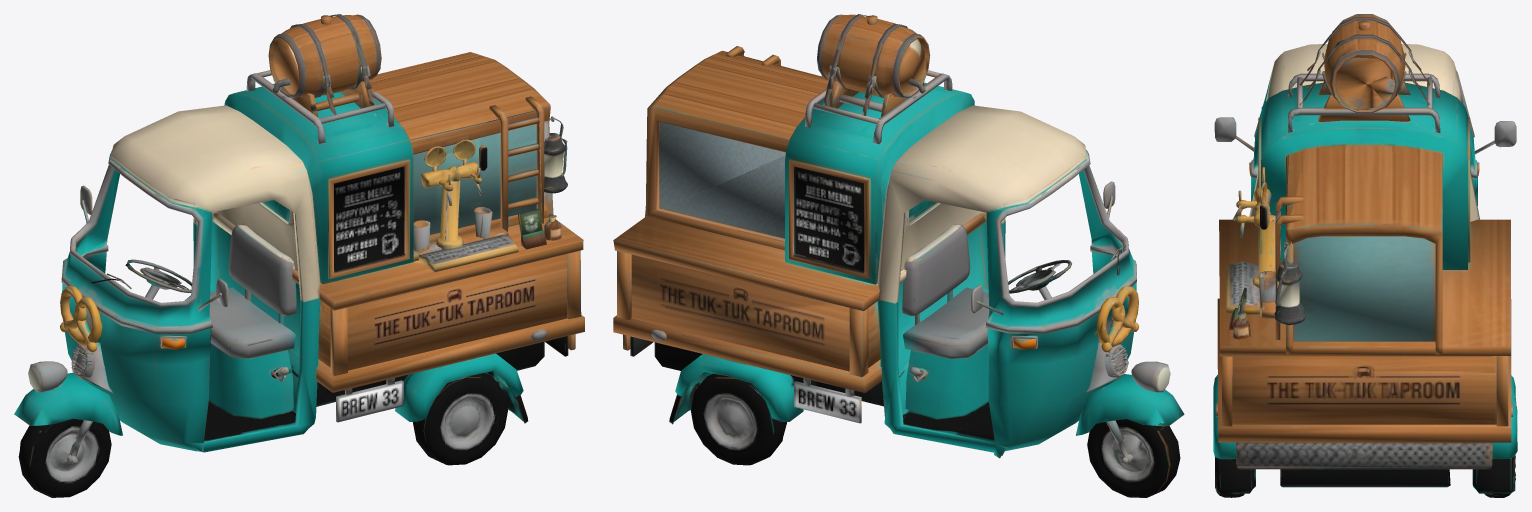
The model's file is tuk_tuk_taproom.glb.
3 renders of one model, left to right at view 1: azimuth 30°, elevation 25°; view 2: azimuth 150°, elevation 25°; view 3: azimuth 270°, elevation 25°, orthographic. The views are drawn at different scales.
Bounding box in the file's own units: 0.9507 × 0.7393 × 0.4697.
1 material, 1 textured.
